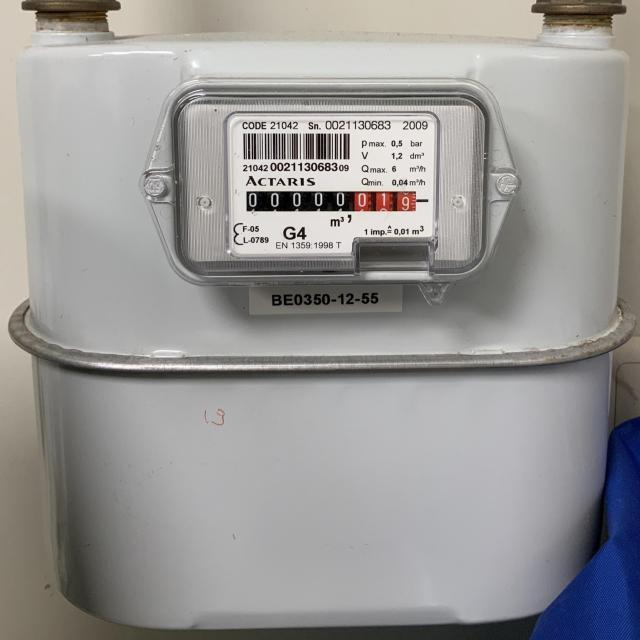gaz_meter: (228, 114, 441, 253)
indication: (243, 189, 417, 211)
